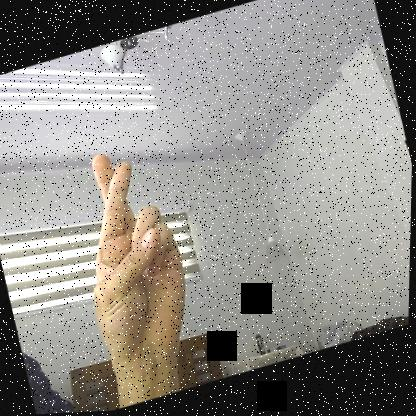R: (58, 135, 209, 370)
